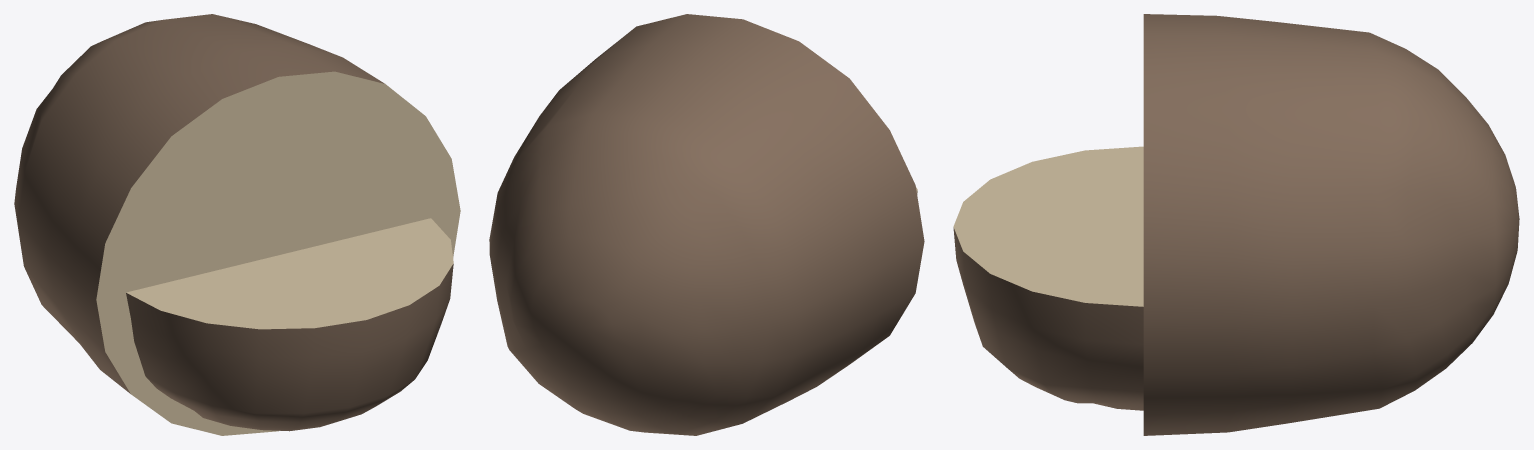
File: Potato2C.fbx
3 renders of one model, left to right at view 1: azimuth 30°, elevation 25°; view 2: azimuth 150°, elevation 25°; view 3: azimuth 270°, elevation 25°, orthographic. The views are drawn at different scales.
Parts seen in each view (by area): view 1: PotatoPeice1B, PotatoPeice2C; view 2: PotatoPeice1B; view 3: PotatoPeice1B, PotatoPeice2C.
Boxes of the visible parts, x1,y1,x2,y2 form: PotatoPeice1B: [14, 14, 460, 435]; PotatoPeice2C: [126, 218, 453, 431]; PotatoPeice1B: [489, 14, 924, 435]; PotatoPeice1B: [1143, 14, 1519, 435]; PotatoPeice2C: [953, 146, 1143, 410].
Size of the model in its own units: 2.39 by 2.22 by 2.98.
